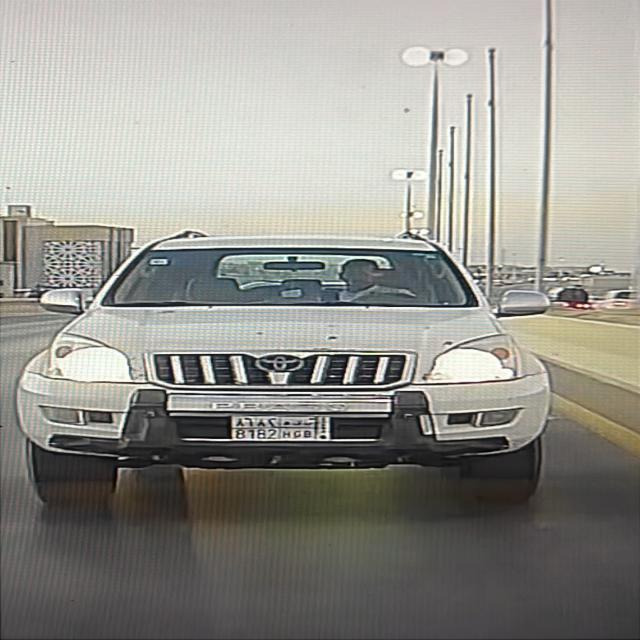person_without_seatbelt: (308, 257, 416, 304)
